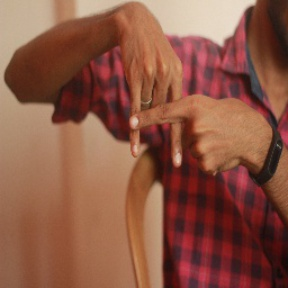H: (103, 50, 212, 175)
